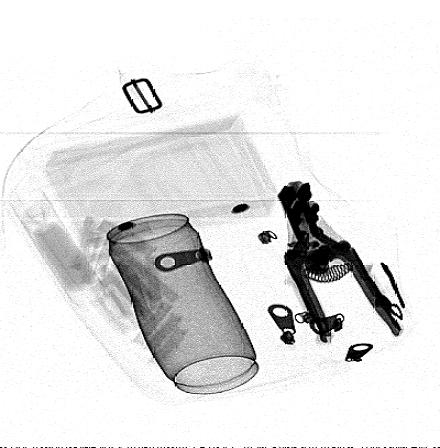Pliers: (276, 179, 405, 344)
